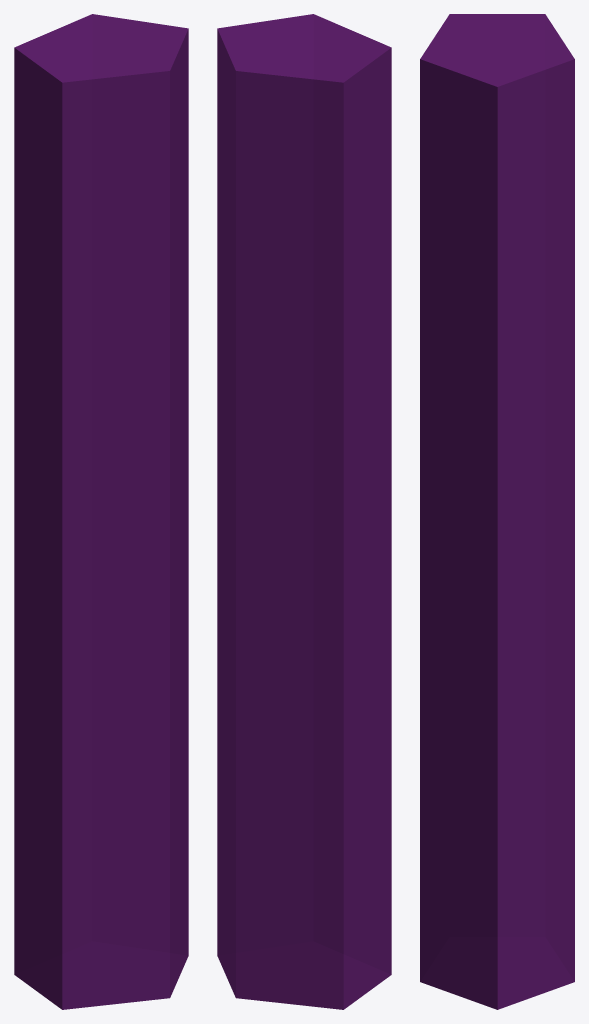
Rendered from Crystal_Flat_Ends.fbx.
The picture shows the model from 3 angles, left to right: view 1: azimuth 30°, elevation 25°; view 2: azimuth 150°, elevation 25°; view 3: azimuth 270°, elevation 25°; orthographic projection.
Parts seen in each view (by area): view 1: Crystal_Flat_Ends; view 2: Crystal_Flat_Ends; view 3: Crystal_Flat_Ends.
Part boxes in pixels (x1,y1,x2,y2): Crystal_Flat_Ends: (14, 14, 188, 1009); Crystal_Flat_Ends: (217, 14, 391, 1009); Crystal_Flat_Ends: (420, 14, 574, 1009).
Bounding box in the file's own units: 1.52 × 1.36 × 8.95.
